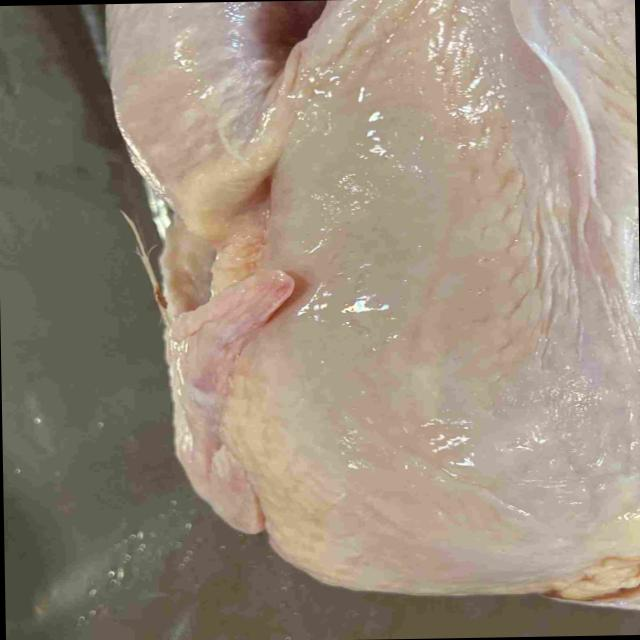breast: (242, 0, 640, 594)
leg: (97, 0, 332, 216)
